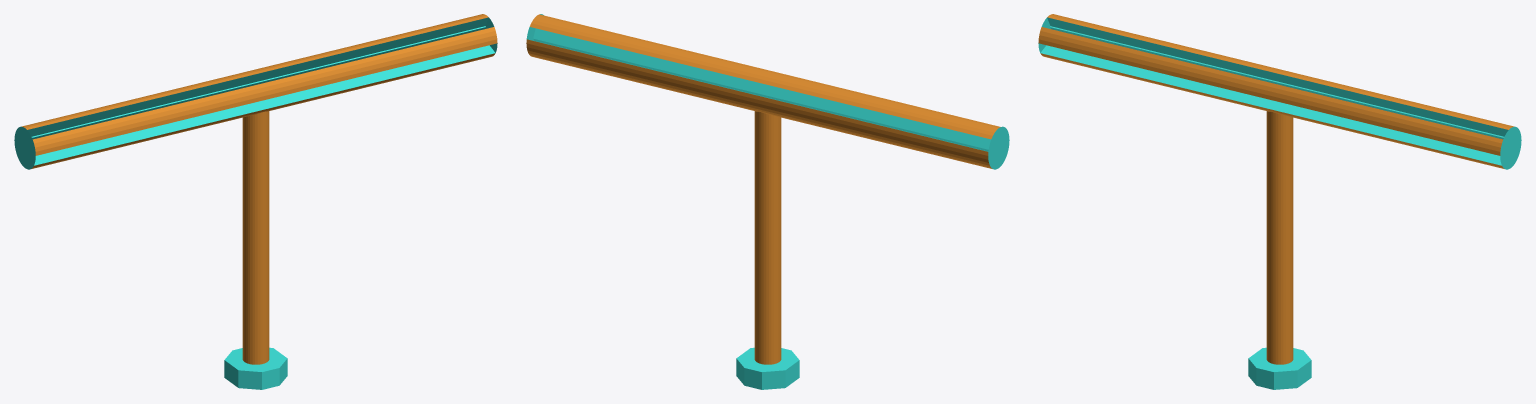
Rendered from rail2.fbx.
The picture shows the model from 3 angles, left to right: view 1: azimuth 30°, elevation 25°; view 2: azimuth 150°, elevation 25°; view 3: azimuth 330°, elevation 25°; orthographic projection.
Visible parts, largest first — view 1: Cylinder.001, Cylinder, Cube; view 2: Cylinder.001, Cylinder, Cube; view 3: Cylinder.001, Cylinder, Cube.
Part boxes in pixels (<box>): Cylinder.001: <box>14,14,497,169</box>; Cylinder: <box>242,111,269,364</box>; Cube: <box>224,347,287,389</box>; Cylinder.001: <box>526,14,1009,169</box>; Cylinder: <box>754,111,781,364</box>; Cube: <box>736,347,799,389</box>; Cylinder.001: <box>1038,14,1521,169</box>; Cylinder: <box>1266,111,1293,364</box>; Cube: <box>1248,347,1311,389</box>.
Size of the model in its own units: 400 by 253 by 44.56.
